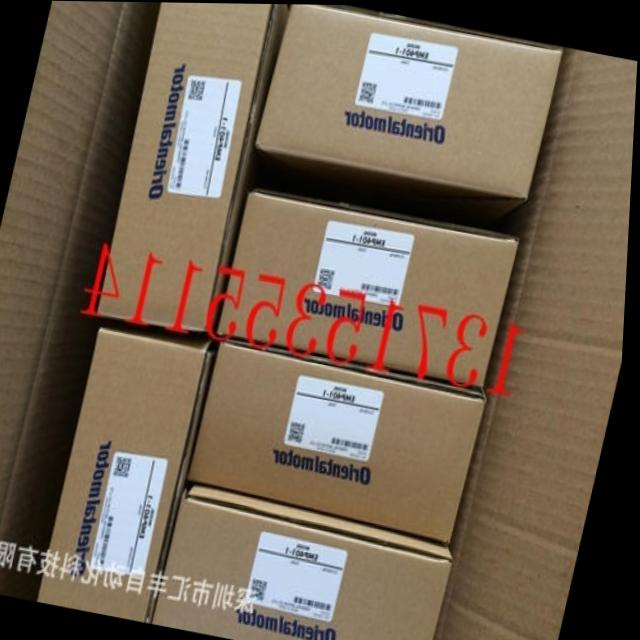box: (442, 45, 638, 640), (0, 1, 159, 598), (253, 3, 561, 216), (98, 2, 289, 333), (189, 335, 492, 543), (219, 184, 520, 389), (44, 326, 221, 621), (156, 482, 458, 640)
